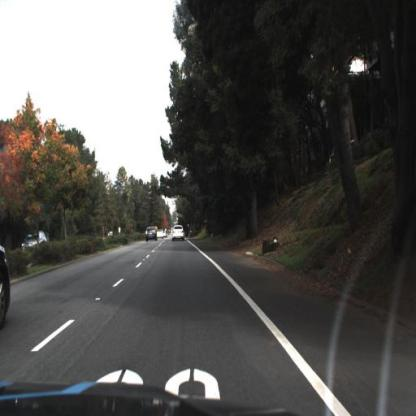car: (1, 204, 12, 338), (167, 222, 188, 245), (146, 224, 162, 246), (158, 225, 167, 239)
